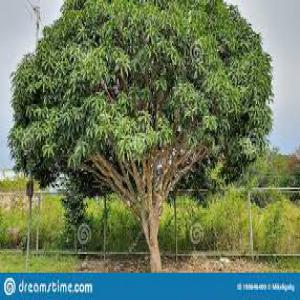Tree: (9, 0, 275, 270)
